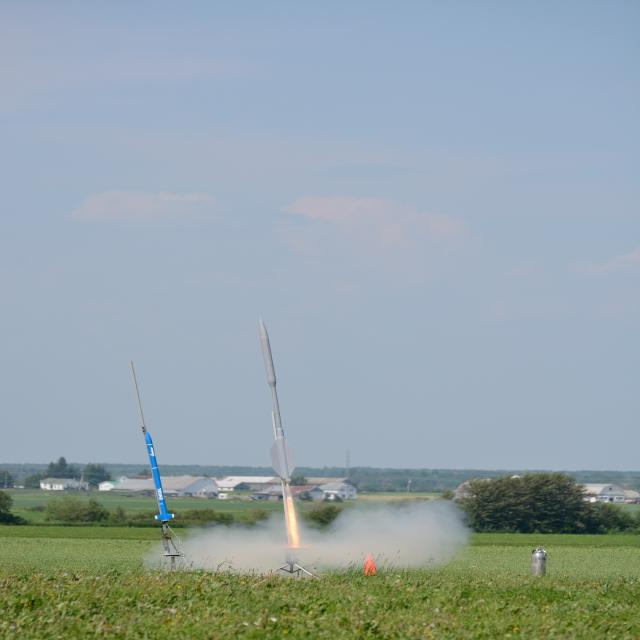Rocket: (258, 316, 296, 485), (145, 430, 175, 521)
